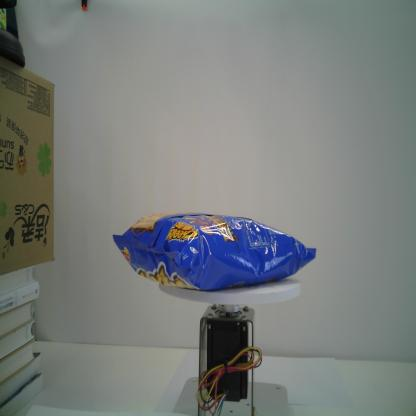Puffed Food: (111, 209, 317, 294)
